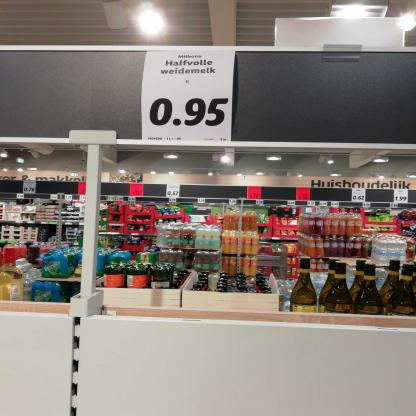prtg: (142, 51, 237, 142)
